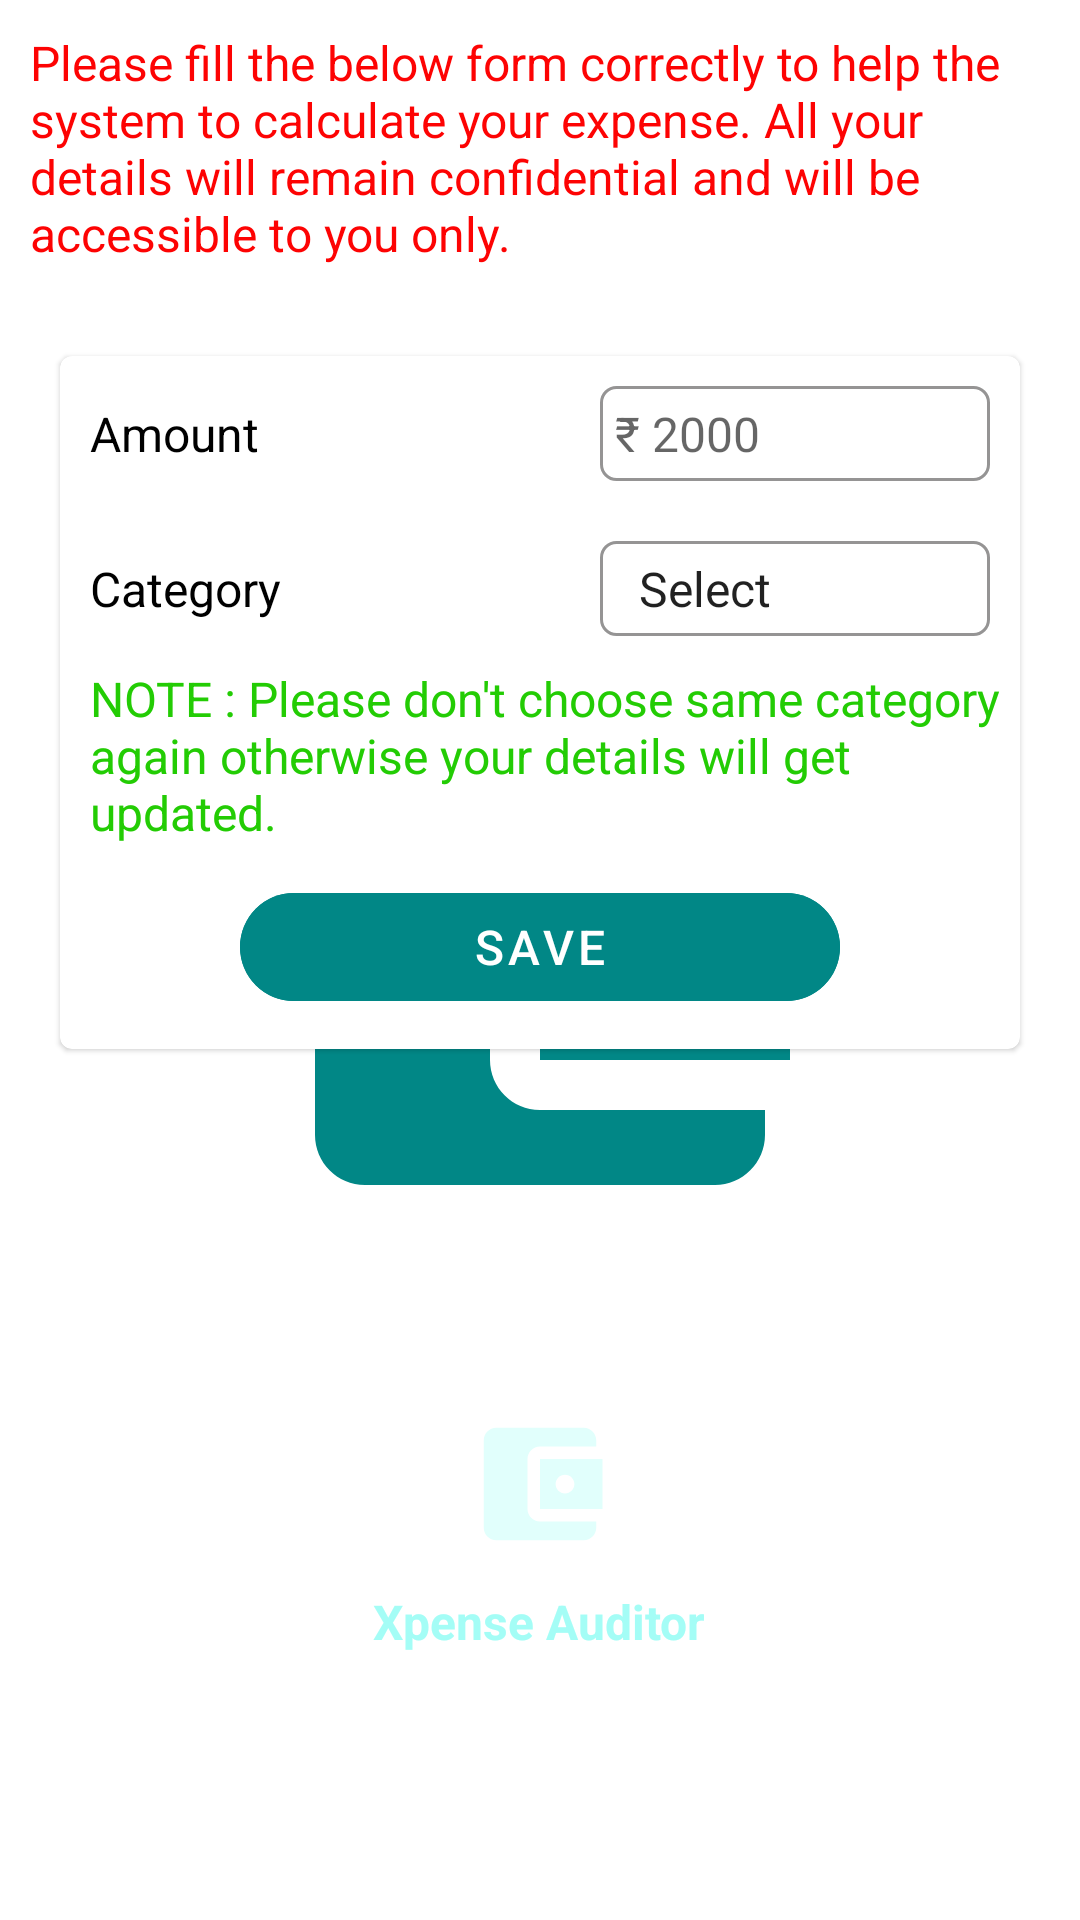

Named icons in this screenshot (1080px×1920px) and their bounding boxes, (x1=x1, y1=y1, x2=x2, y2=y2):
wallet: (x1=484, y1=1428, x2=602, y2=1540)
